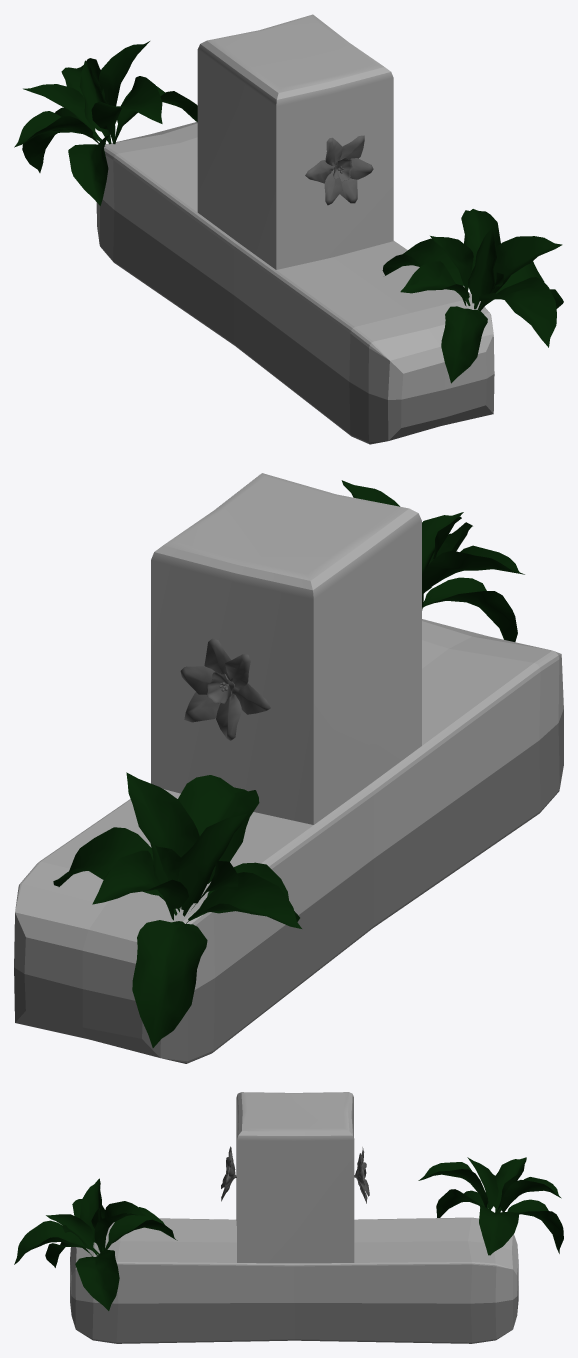
The picture shows the model from 3 angles, top to bottom: view 1: azimuth 30°, elevation 25°; view 2: azimuth 150°, elevation 25°; view 3: azimuth 270°, elevation 25°; orthographic projection. The views are drawn at different scales.
Parts seen in each view (by area): view 1: PL_Corto_DOWN8, Group_007, Group_008, Daffodil.yellow9; view 2: PL_Corto_DOWN8, Group_008, Group_007, Daffodil.yellow10; view 3: PL_Corto_DOWN8, Group_007, Group_008, Daffodil.yellow10, Daffodil.yellow9.
Part boxes in pixels (x1,y1,x2,y2): PL_Corto_DOWN8: (96, 14, 494, 444); Group_007: (382, 209, 563, 383); Group_008: (14, 41, 197, 205); Daffodil.yellow9: (305, 135, 373, 205); PL_Corto_DOWN8: (14, 473, 563, 1063); Group_008: (53, 772, 301, 1047); Group_007: (341, 480, 524, 641); Daffodil.yellow10: (180, 638, 270, 740); PL_Corto_DOWN8: (70, 1092, 518, 1343); Group_007: (14, 1178, 177, 1310); Group_008: (418, 1157, 563, 1255); Daffodil.yellow10: (354, 1147, 369, 1203); Daffodil.yellow9: (221, 1146, 236, 1201).
Bounding box in the file's own units: 2.64 × 2.53 × 5.98.
